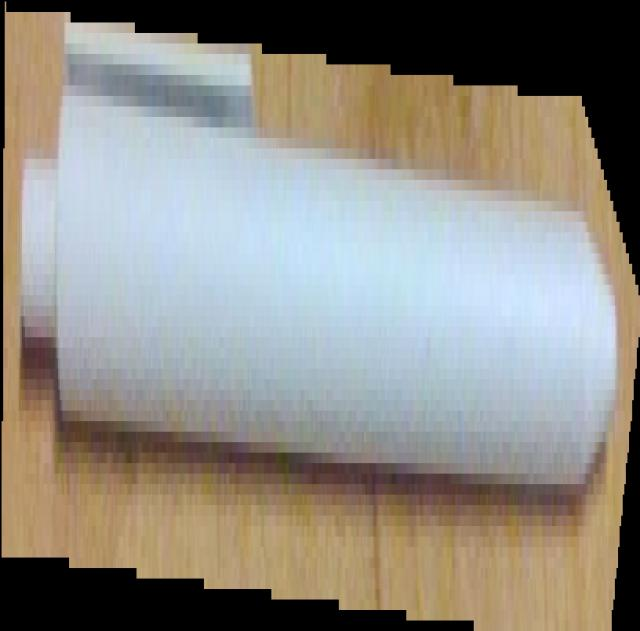white: (1, 0, 640, 631)
